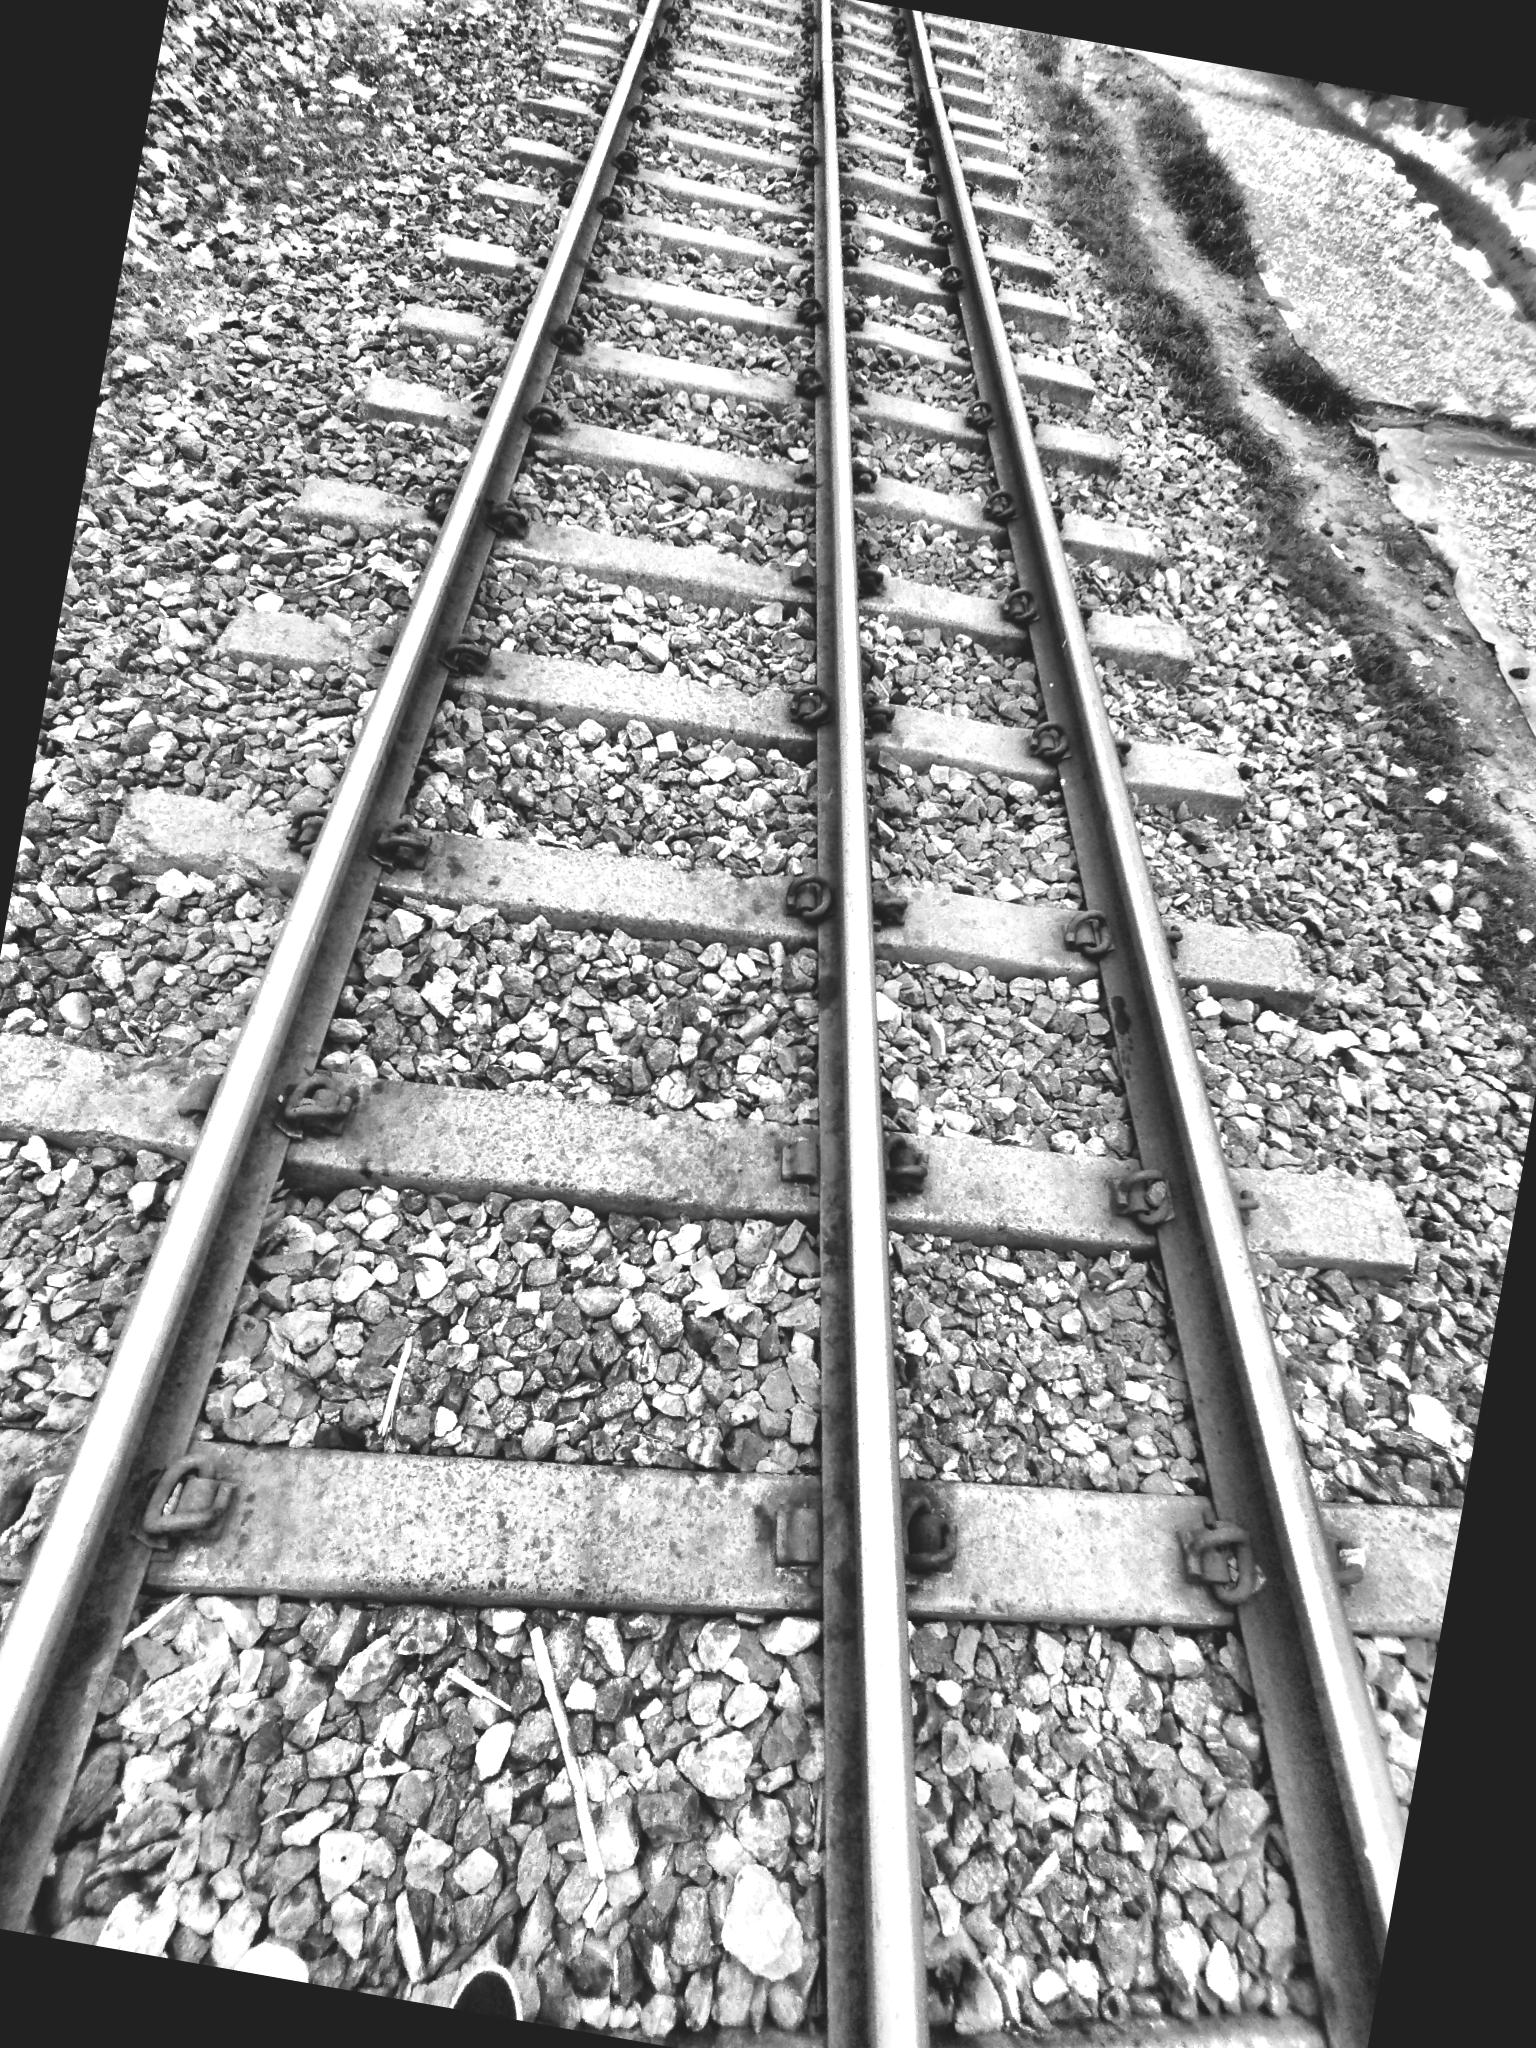Trash: (478, 1617, 674, 1906)
